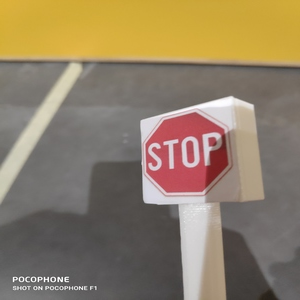stop-bord: (142, 110, 235, 197)
